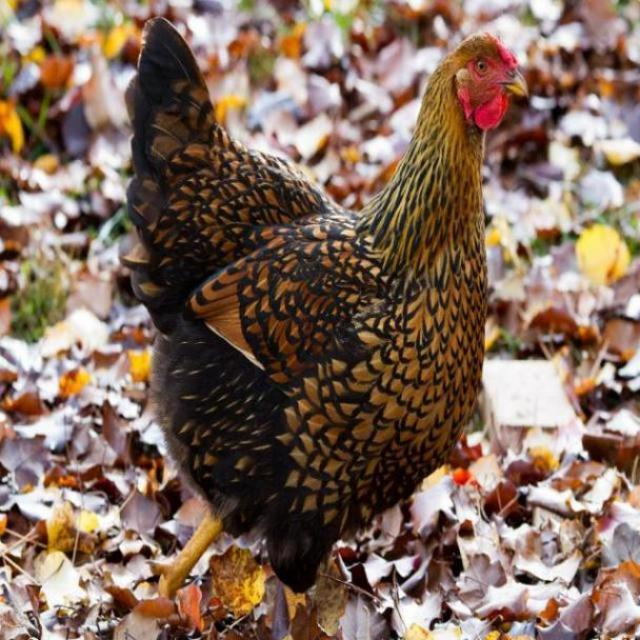Chicken: (126, 8, 527, 621)
